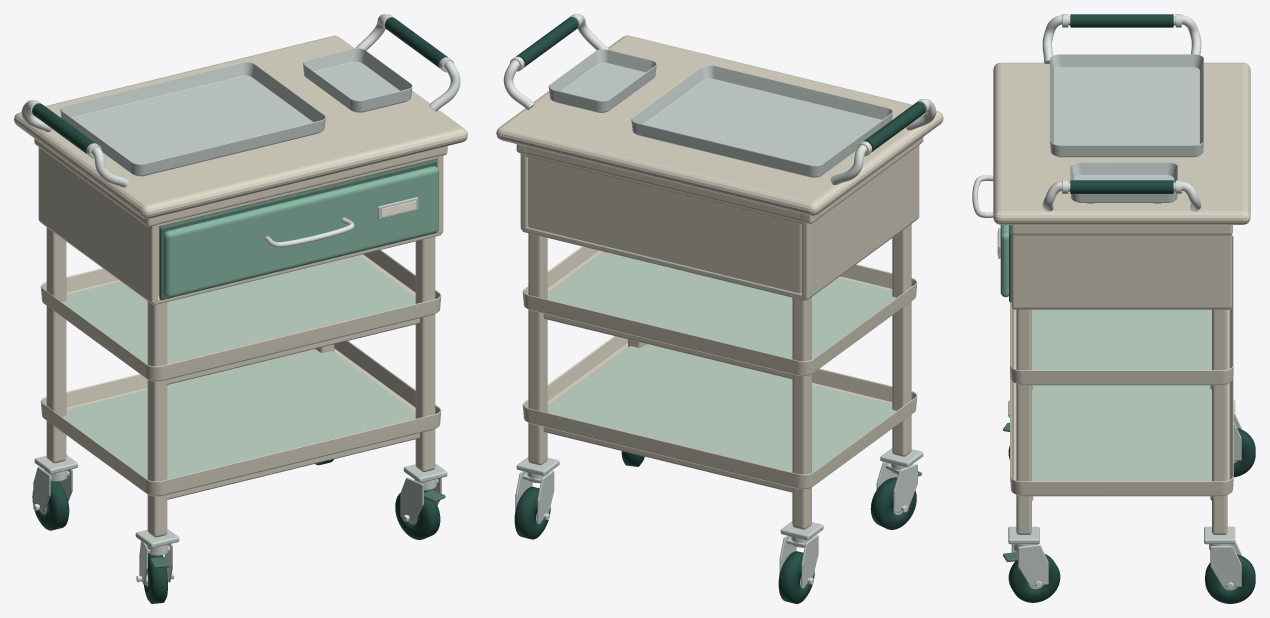
The model's file is trolley.glb.
3 renders of one model, left to right at view 1: azimuth 30°, elevation 25°; view 2: azimuth 150°, elevation 25°; view 3: azimuth 270°, elevation 25°, orthographic. The views are drawn at different scales.
Visible parts, largest first — view 1: Shelf | lower silicone mat.001, Counter | rounded enamel top.001, Tray | main brushed steel.001, Shelf | middle silicone mat.001, Drawer | mint front.001, Shelf | lower connected enamel pan.001, Drawer case | side.002, Shelf | middle connected enamel pan.001, Tray | small brushed steel.001, Frame | upright.004, Frame | upright.006, Frame | upright.005 (+17 smaller); view 2: Shelf | lower silicone mat.001, Counter | rounded enamel top.001, Drawer case | rear.001, Tray | main brushed steel.001, Shelf | middle silicone mat.001, Shelf | lower connected enamel pan.001, Drawer case | side.002, Shelf | middle connected enamel pan.001, Tray | small brushed steel.001, Frame | upright.005, Frame | upright.007, Frame | upright.004 (+17 smaller); view 3: Counter | rounded enamel top.001, Shelf | lower silicone mat.001, Drawer case | side.003, Tray | main brushed steel.001, Shelf | middle silicone mat.001, Shelf | lower connected enamel pan.001, Shelf | middle connected enamel pan.001, Frame | upright.006, Frame | upright.007, Tray | small brushed steel.001, Frame | upper side rail.003, Handle | left forest rubber grip.001 (+13 smaller).
Part boxes in pixels (x1,y1,x2,y2): Shelf | lower silicone mat.001: (62,349,415,479); Counter | rounded enamel top.001: (14,35,467,218); Tray | main brushed steel.001: (60,62,325,176); Shelf | middle silicone mat.001: (62,255,415,364); Drawer | mint front.001: (163,166,438,297); Shelf | lower connected enamel pan.001: (40,341,441,496); Drawer case | side.002: (38,147,157,303); Shelf | middle connected enamel pan.001: (40,250,441,381); Tray | small brushed steel.001: (303,48,412,112); Frame | upright.004: (147,227,167,537); Frame | upright.006: (415,236,435,471); Frame | upright.005: (46,227,66,463); Shelf | lower silicone mat.001: (547,344,896,472); Counter | rounded enamel top.001: (496,35,943,215); Drawer case | rear.001: (528,157,801,293); Tray | main brushed steel.001: (631,65,892,177); Shelf | middle silicone mat.001: (547,252,896,359); Shelf | lower connected enamel pan.001: (522,336,917,489); Drawer case | side.002: (801,145,919,299); Shelf | middle connected enamel pan.001: (522,246,917,376); Tray | small brushed steel.001: (548,49,656,112); Frame | upright.005: (792,297,811,529); Frame | upright.007: (528,233,547,465); Frame | upright.004: (892,224,911,456); Counter | rounded enamel top.001: (993,62,1250,224); Shelf | lower silicone mat.001: (1032,385,1211,481); Drawer case | side.003: (1011,234,1231,308); Tray | main brushed steel.001: (1050,54,1203,157); Shelf | middle silicone mat.001: (1032,309,1211,370); Shelf | lower connected enamel pan.001: (1010,367,1233,496); Shelf | middle connected enamel pan.001: (1010,235,1233,385); Frame | upright.006: (1016,309,1031,534); Frame | upright.007: (1212,309,1227,534); Tray | small brushed steel.001: (1070,162,1177,202); Frame | upper side rail.003: (1011,225,1232,235); Handle | left forest rubber grip.001: (1070,14,1173,27).
Bounding box in the file's own units: 0.7246 × 0.8653 × 0.5043.
